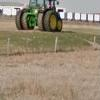Tractor: (12, 2, 67, 34)
